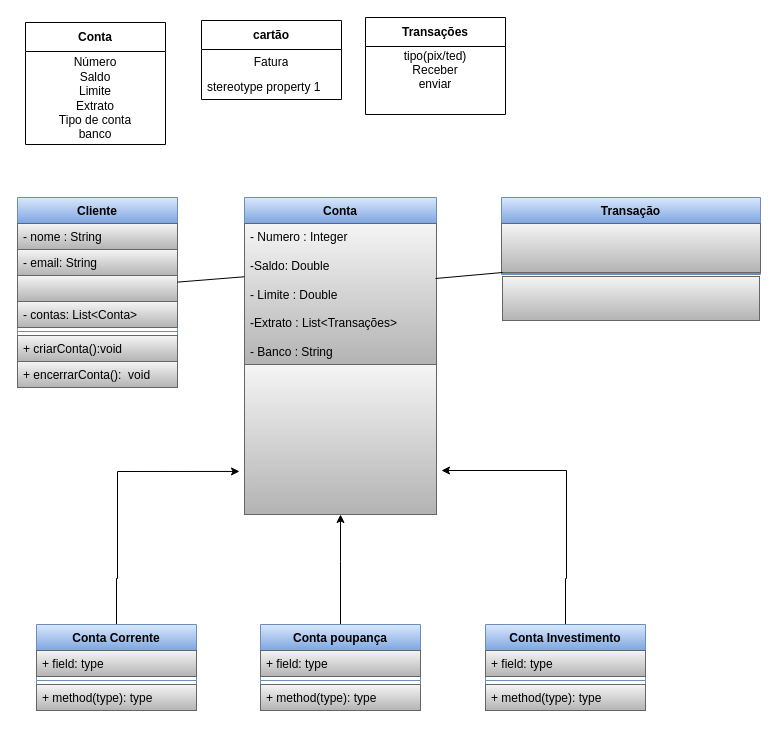
The diagram is 778 pixels wide and 731 high, and some of its shapes have lost their labels. The shapes that lost their labels are listed below. From the top down, each one's centre as x and y in pixels, then its label:
the point at 630,247: - Tipo : Integer - contaDe : Conta -contaPara: Conta
the point at 97,288: - cpf: String
the point at 631,298: + efetuarTransacao(Double valor) :Boolean
the point at 340,439: + gerarNumero():Integer + registrarTransacao():Void + verSaldo(): void
